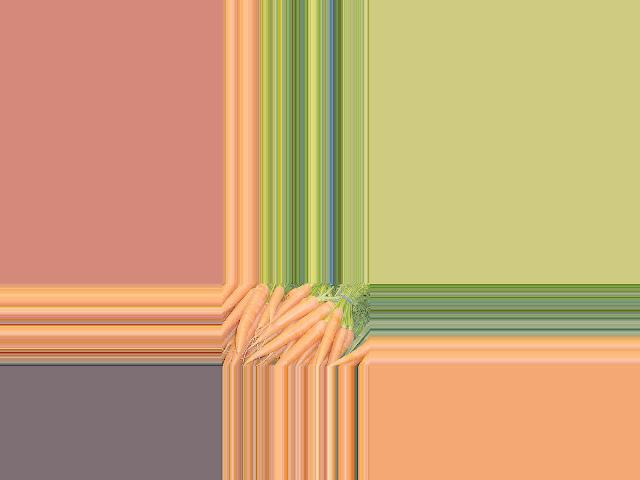carrot: (274, 320, 326, 367)
